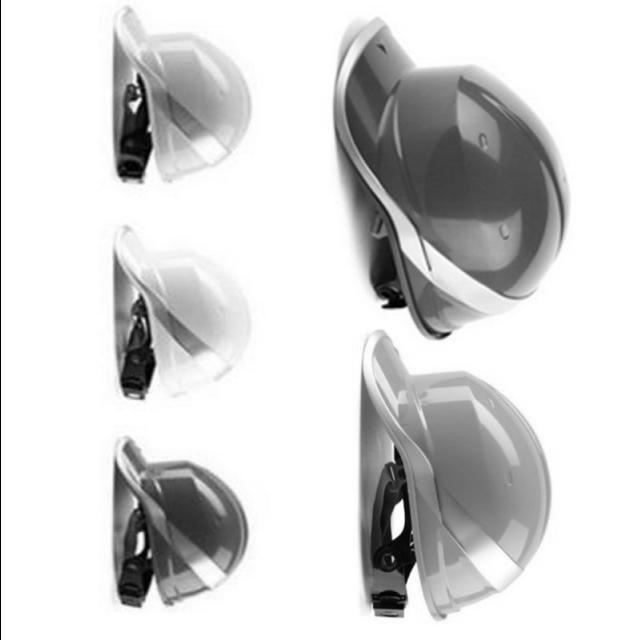safety_helmet: (109, 436, 249, 610), (129, 229, 253, 405), (139, 29, 251, 187)
